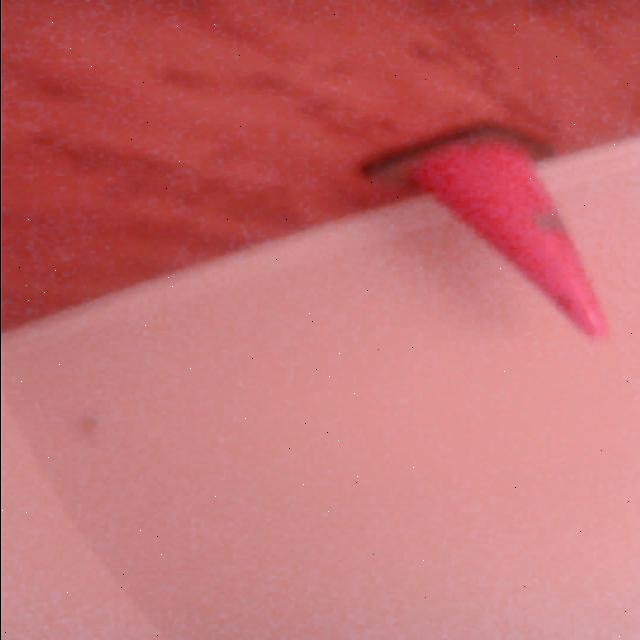traffic cone: (352, 121, 618, 348)
